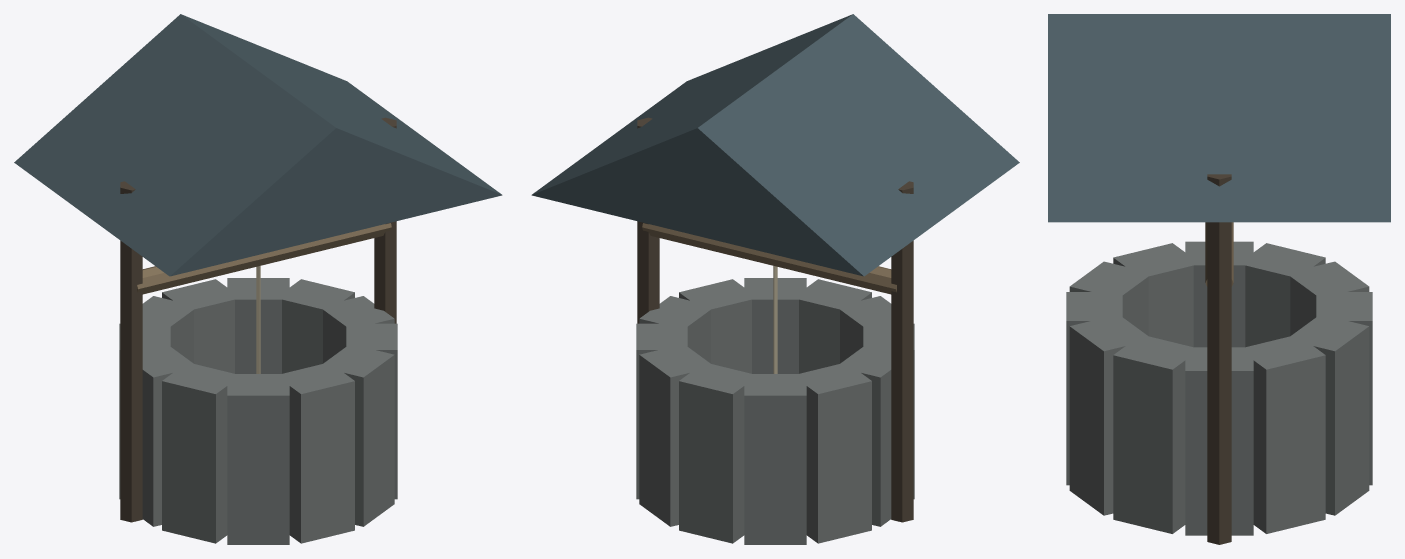
File: PRP_00_Well.glb
3 renders of one model, left to right at view 1: azimuth 30°, elevation 25°; view 2: azimuth 150°, elevation 25°; view 3: azimuth 270°, elevation 25°, orthographic. The views are drawn at different scales.
Parts seen in each view (by area): view 1: PRP_00_Well; view 2: PRP_00_Well; view 3: PRP_00_Well.
Boxes of the visible parts, box(x1,y1,x2,y2) form: PRP_00_Well: box(14, 14, 502, 544); PRP_00_Well: box(531, 14, 1019, 544); PRP_00_Well: box(1048, 14, 1390, 544).
Bounding box in the file's own units: 2.1 × 2.5 × 1.7.
